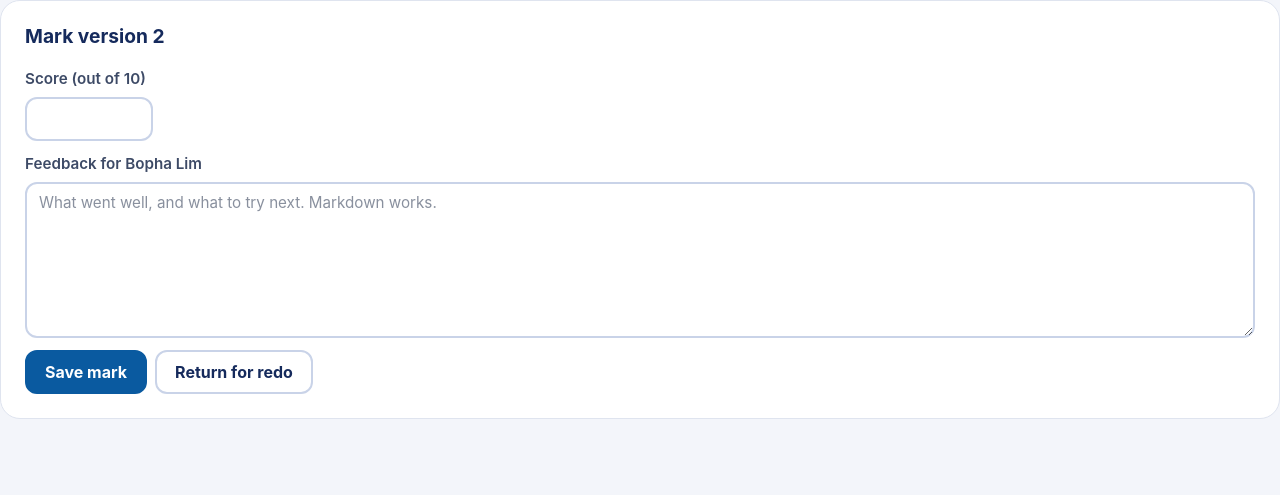
Test case: GradeForm › saves the score and feedback for the latest version, and says the student can see it
In the field labelled "Score (out of 10)": (89, 119) [25,97,153,141], type "8.5"
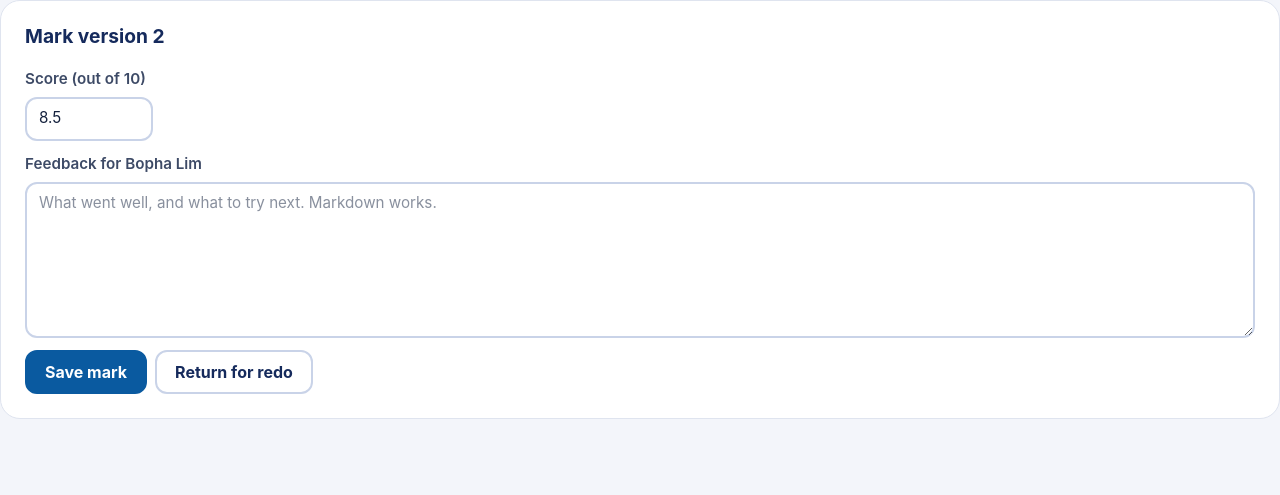
In the text box labelled "Feedback for Bopha Lim": (640, 260) [25,182,1255,338], type "Good work"
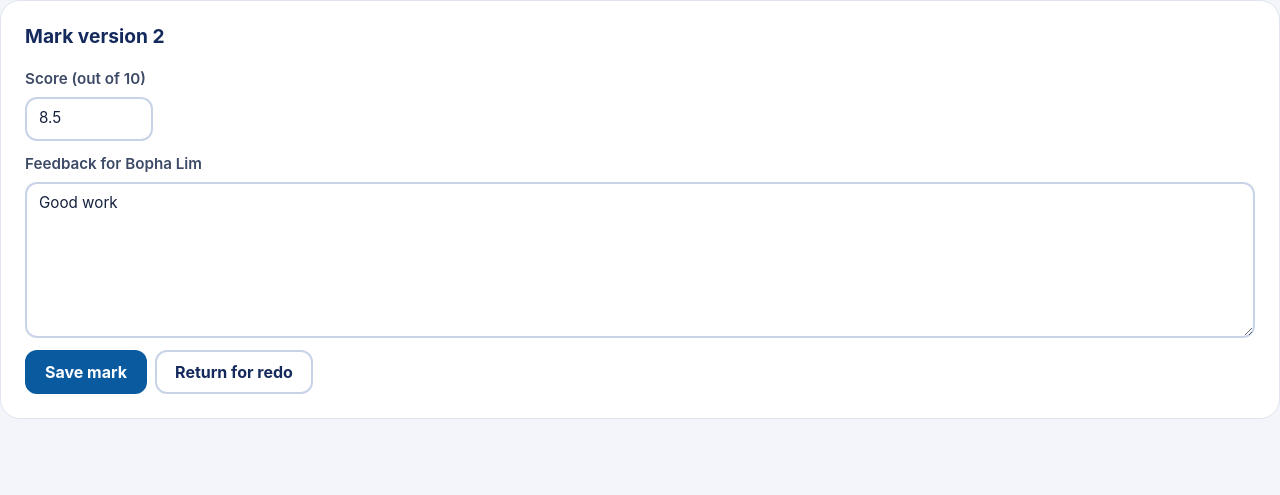
Click the button "Save mark": (86, 372) [25,350,147,394]
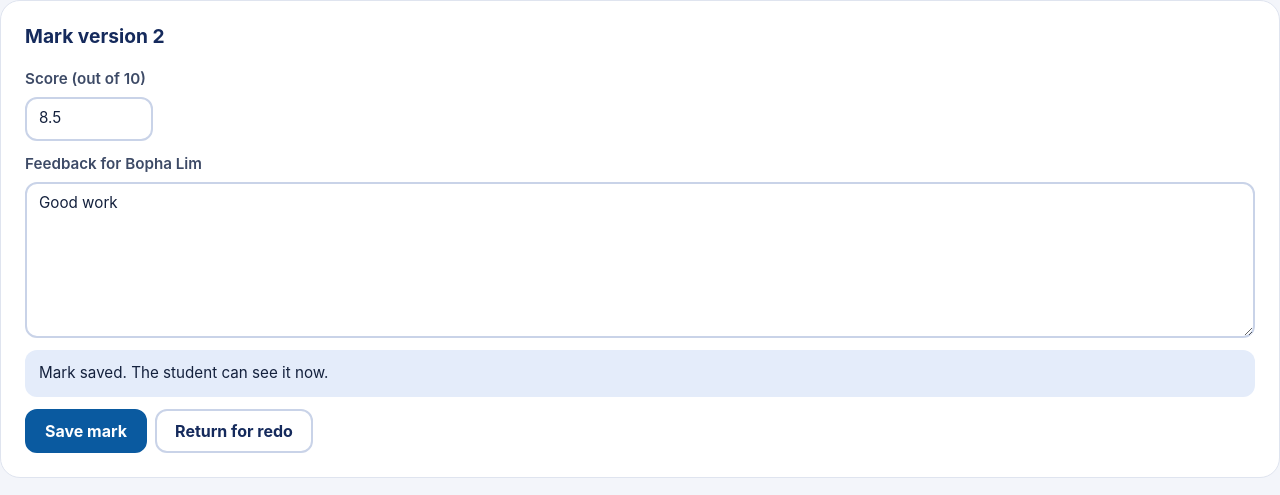
Expected: the message reads "Mark saved. The student can see it now.", [39,363,328,382]
